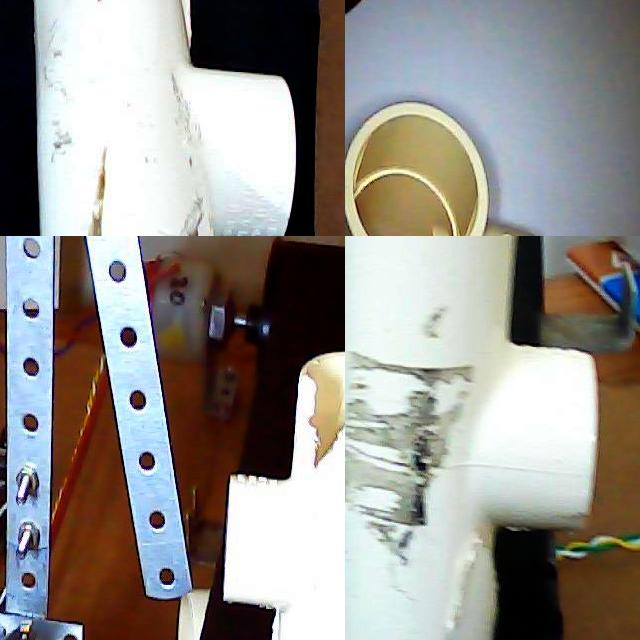Defective: (345, 320, 466, 565), (449, 527, 506, 640), (75, 112, 117, 236), (301, 358, 345, 473), (173, 174, 228, 236), (256, 561, 296, 640), (167, 0, 197, 98)
T Joint: (345, 236, 599, 640), (34, 0, 301, 236), (222, 351, 345, 640), (345, 98, 535, 236)
